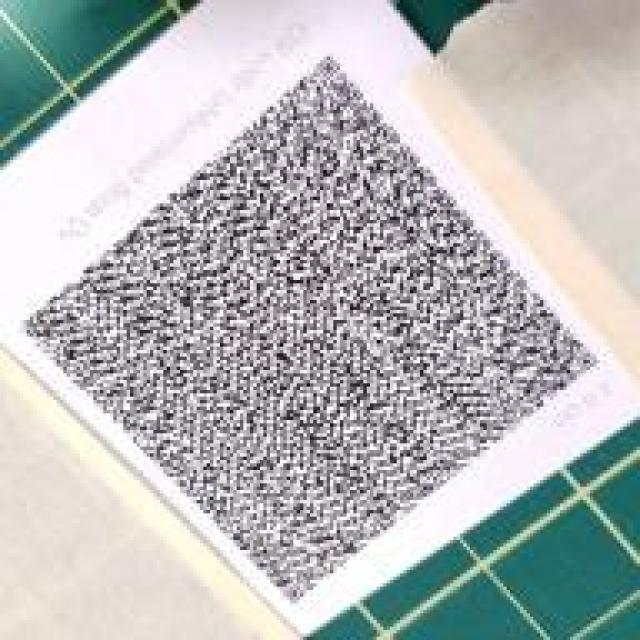QR_CODE: (9, 42, 614, 620)
